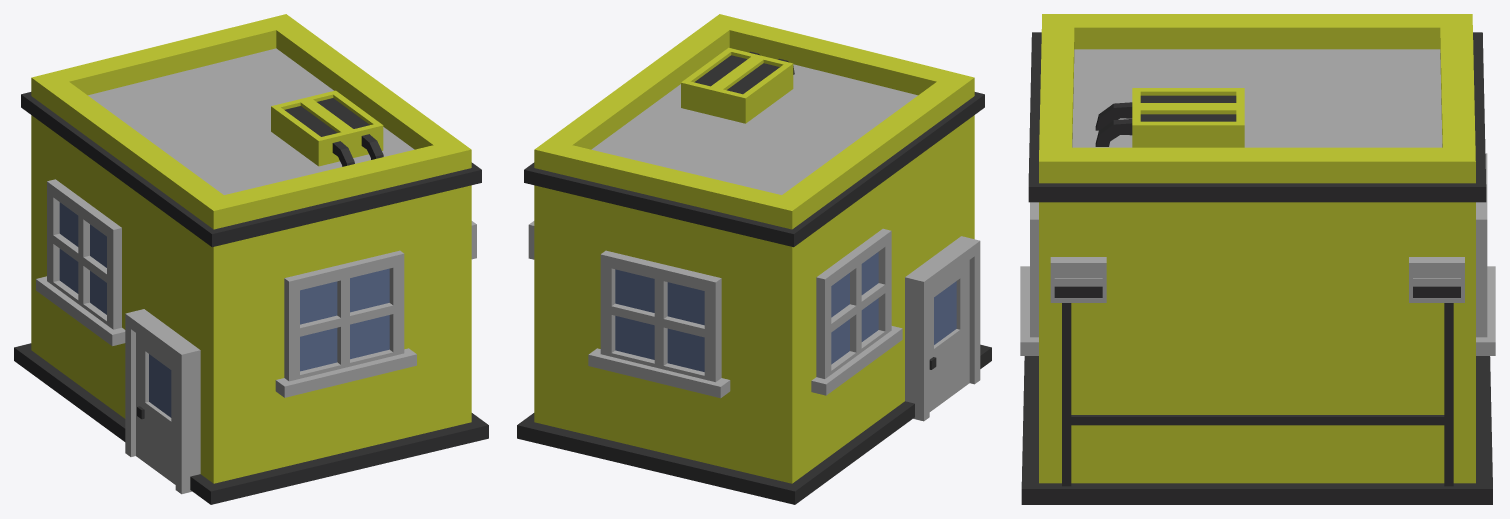
Rendered from Building12_4.fbx.
3 renders of one model, left to right at view 1: azimuth 30°, elevation 25°; view 2: azimuth 150°, elevation 25°; view 3: azimuth 270°, elevation 25°, orthographic. The views are drawn at different scales.
Visible parts, largest first — view 1: Building12_4; view 2: Building12_4; view 3: Building12_4.
Part boxes in pixels (x1,y1,x2,y2): Building12_4: [14, 14, 488, 504]; Building12_4: [517, 14, 991, 504]; Building12_4: [1020, 14, 1495, 504].
Size of the model in its own units: 274 by 271 by 335.
